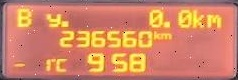-: (162, 20, 170, 27), (60, 20, 68, 27)
0: (147, 8, 162, 27), (176, 8, 191, 27), (136, 30, 152, 47)
1: (44, 58, 50, 71)
2: (58, 30, 74, 47)
3: (74, 29, 90, 46)
5: (110, 52, 127, 72), (106, 30, 121, 47)
6: (90, 29, 105, 46), (121, 30, 136, 47)
8: (127, 52, 145, 72)
9: (87, 52, 104, 72)
X: (15, 8, 31, 27), (205, 13, 221, 28), (191, 9, 203, 28), (45, 12, 60, 27), (53, 57, 66, 71), (159, 32, 171, 39), (151, 30, 159, 39)
